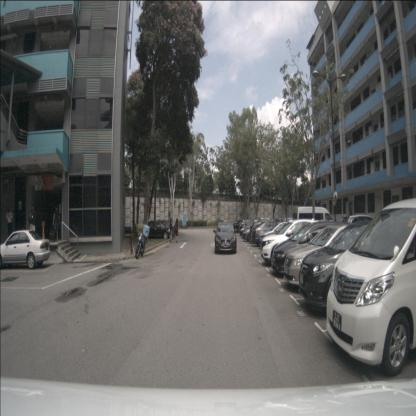cone: (42, 226, 46, 242)
